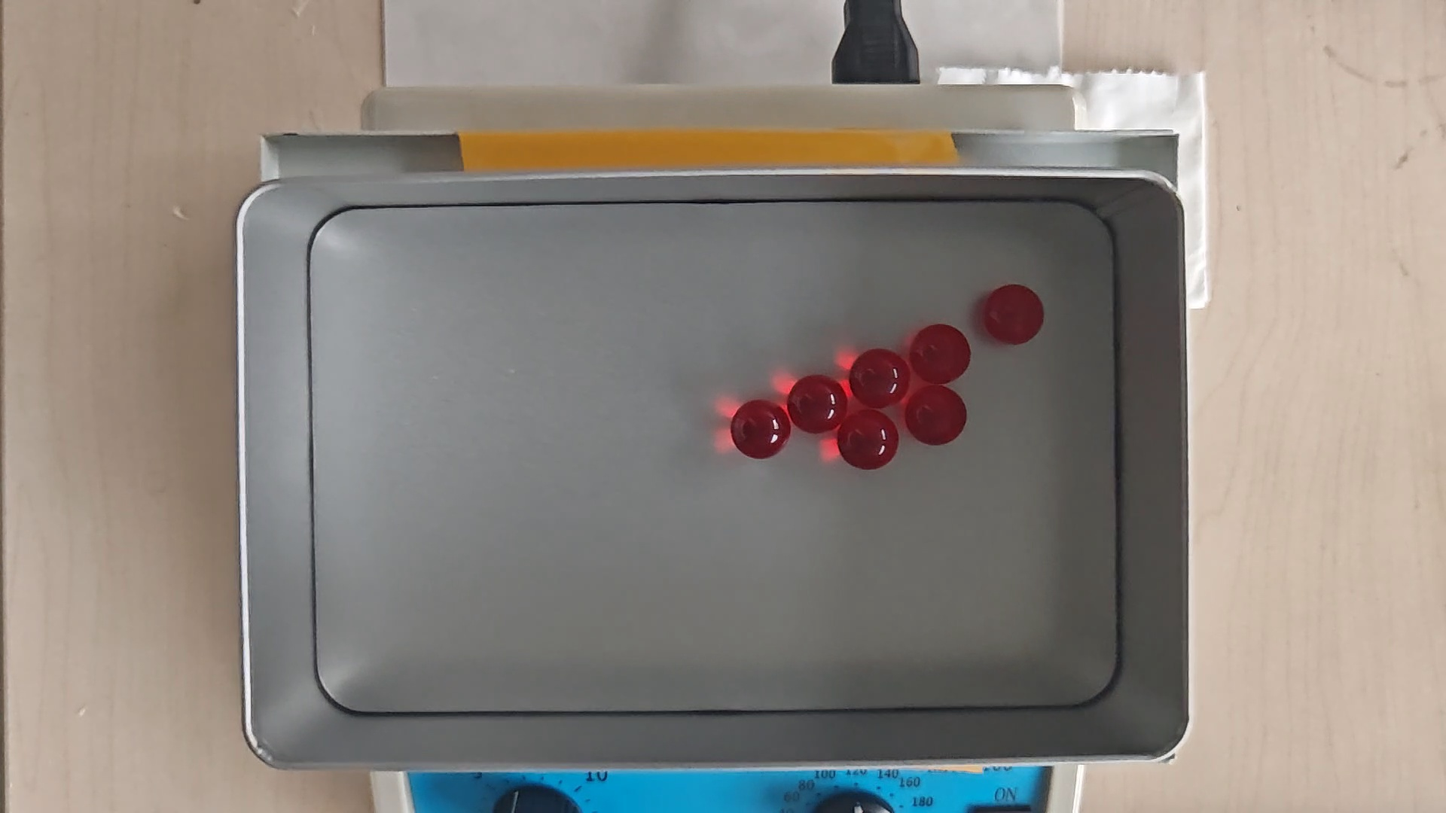ball: (981, 284, 1042, 345), (731, 399, 790, 459), (851, 349, 909, 409), (789, 375, 846, 436), (908, 387, 966, 443), (914, 324, 969, 383), (842, 410, 896, 469)
container: (309, 204, 1112, 711)
